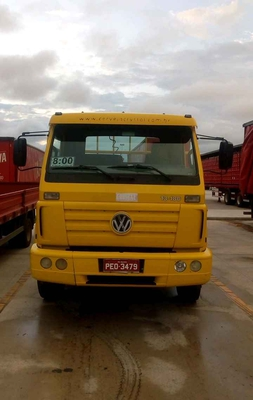Frontal Caminhao: (31, 111, 212, 289)
